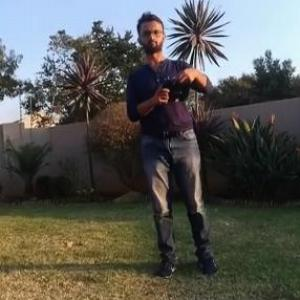follow: (122, 3, 226, 285)
